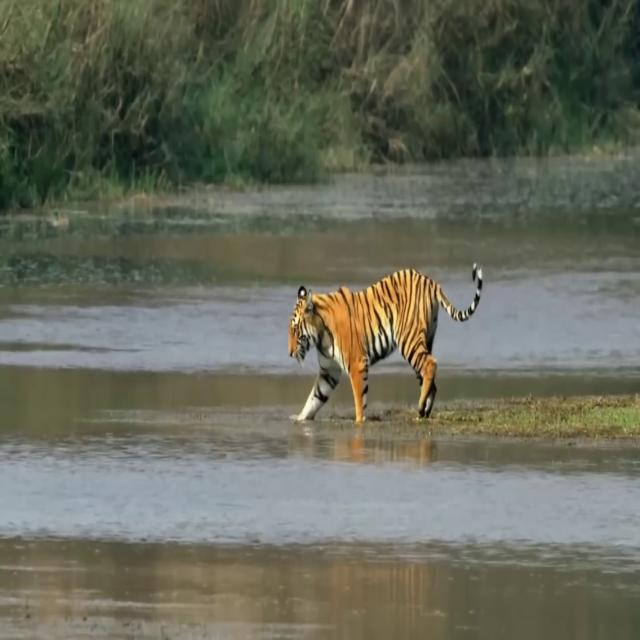tiger: (288, 260, 484, 427)
